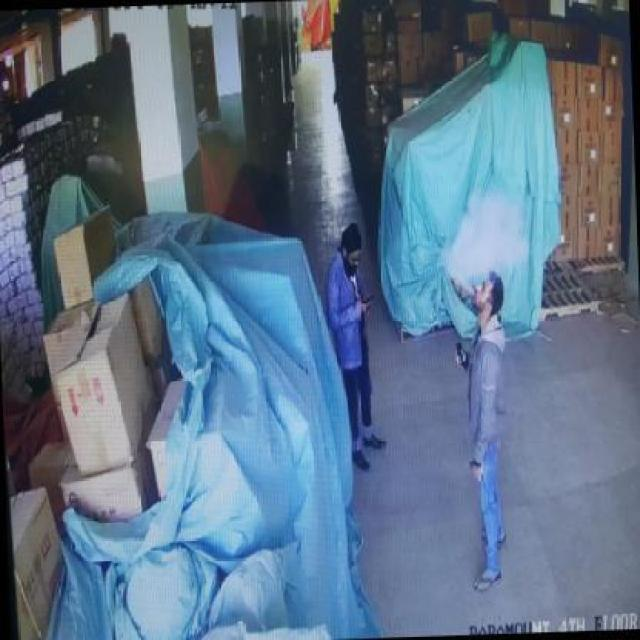fire: (445, 172, 530, 283)
